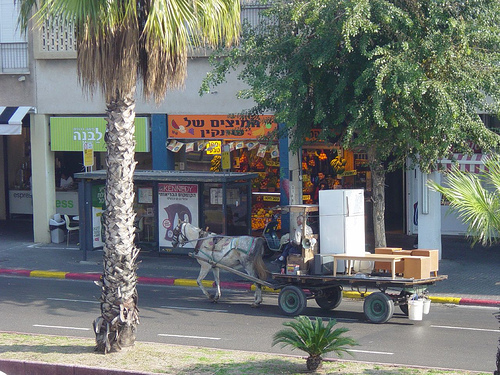horse: (169, 217, 269, 308)
